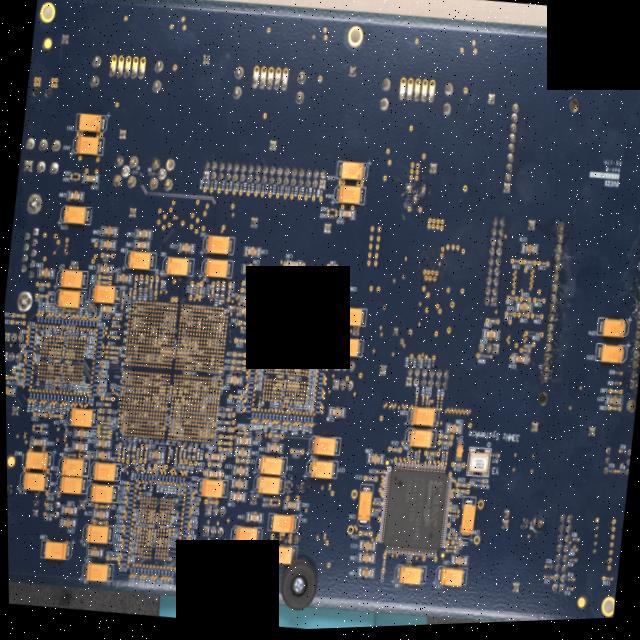-component text- -336 10K 343-: (88, 531, 100, 543), (89, 568, 100, 580), (49, 544, 60, 556), (93, 490, 105, 501), (96, 468, 108, 479), (63, 481, 75, 492), (26, 477, 38, 488), (73, 414, 85, 425)
-component text- -336 16K 412-: (342, 191, 354, 204), (96, 289, 108, 302), (276, 520, 288, 532), (237, 532, 249, 544), (204, 485, 215, 497), (316, 443, 328, 454), (415, 415, 427, 426), (63, 274, 74, 286), (280, 303, 291, 314), (209, 265, 220, 276), (211, 241, 222, 252), (80, 141, 91, 152)
-component text- -336 16k 412-: (340, 344, 351, 356), (343, 314, 354, 326)
-component text- -R- 337 6K 146-: (357, 502, 368, 522), (61, 461, 76, 475), (83, 117, 99, 130), (270, 551, 284, 565), (193, 572, 207, 586), (58, 293, 73, 306), (233, 554, 247, 567), (30, 455, 44, 468), (258, 481, 272, 494), (605, 353, 619, 366), (608, 327, 622, 340), (346, 167, 361, 179), (461, 517, 470, 536), (260, 462, 274, 474), (167, 262, 181, 274), (129, 256, 143, 268), (399, 573, 412, 585), (64, 210, 78, 221), (441, 575, 454, 586), (312, 467, 325, 478), (410, 436, 423, 447)
-component text- -R- 337 6k 146-: (279, 281, 294, 293)
-component text- -SG8002CA 33-0000 -MAPCCS-: (471, 462, 483, 473)
-component text- -XILINX System ACETM XCCACE-TQ144I F0416T155 JAPAN-: (396, 478, 441, 548)
-component text- 51R: (137, 284, 141, 290), (103, 410, 107, 414), (223, 429, 227, 433), (214, 292, 218, 296), (219, 292, 223, 296), (125, 451, 128, 456), (102, 418, 105, 422), (130, 452, 133, 456), (186, 453, 189, 457), (223, 415, 226, 419), (191, 454, 193, 458), (144, 285, 146, 289)
-electrolytic capacitor- C15: (252, 456, 287, 479)
-electrolytic capacitor- C16: (270, 296, 304, 319)
-electrolytic capacitor- C19: (250, 475, 284, 498)
-electrolytic capacitor- C199: (391, 566, 425, 590)
-electrolytic capacitor- C200: (456, 499, 475, 543)
-electrolytic capacitor- C201: (52, 288, 86, 311)
-electrolytic capacitor- C203: (353, 486, 372, 530)
-electrolytic capacitor- C204: (402, 429, 436, 452)
-electrolytic capacitor- C205: (404, 408, 439, 431)
-electrolytic capacitor- C237: (303, 460, 337, 483)
-electrolytic capacitor- C239: (55, 455, 89, 478)
-electrolytic capacitor- C240: (272, 275, 307, 298)
-electrolytic capacitor- C241: (79, 522, 113, 546)
-electrolytic capacitor- C26: (160, 256, 194, 279)
-electrolytic capacitor- C27: (54, 268, 88, 291)
-electrolytic capacitor- C273: (593, 346, 627, 369)
-electrolytic capacitor- C274: (594, 320, 629, 344)
-electrolytic capacitor- C275: (58, 204, 92, 227)
-electrolytic capacitor- C288: (122, 250, 157, 273)
-electrolytic capacitor- C302: (186, 566, 219, 589)
-electrolytic capacitor- C313: (431, 567, 466, 592)
-electrolytic capacitor- C324: (306, 435, 340, 460)
-electrolytic capacitor- C335: (193, 477, 227, 501)
-electrolytic capacitor- C347: (84, 483, 118, 506)
-electrolytic capacitor- C388: (226, 548, 260, 571)
-electrolytic capacitor- C389: (37, 539, 72, 563)
-electrolytic capacitor- C40: (54, 473, 87, 496)
-electrolytic capacitor- C410: (335, 162, 369, 185)
-electrolytic capacitor- C411: (74, 112, 108, 135)
-electrolytic capacitor- C412: (19, 449, 52, 472)
-electrolytic capacitor- C413: (263, 544, 296, 569)
-electrolytic capacitor- C414: (332, 185, 366, 209)
-electrolytic capacitor- C415: (70, 135, 104, 158)
-electrolytic capacitor- C416: (16, 470, 50, 493)
-electrolytic capacitor- C417: (264, 514, 298, 536)
-electrolytic capacitor- C42: (200, 235, 235, 258)
-electrolytic capacitor- C43: (64, 407, 97, 430)
-electrolytic capacitor- C44: (199, 258, 233, 281)
-electrolytic capacitor- C47: (332, 307, 366, 330)
-electrolytic capacitor- C58: (227, 526, 261, 549)
-electrolytic capacitor- C69: (79, 561, 112, 584)
-electrolytic capacitor- C7: (453, 443, 462, 464)
-electrolytic capacitor- C80: (329, 339, 363, 362)
-electrolytic capacitor- C83: (86, 284, 121, 307)
-electrolytic capacitor- C94: (86, 460, 121, 484)
2003: (316, 389, 322, 393)
2004: (317, 384, 322, 388)
2005: (434, 403, 437, 412)
2006: (318, 365, 323, 368)
2007: (313, 407, 319, 412)
2009: (95, 355, 100, 359)
2010: (26, 349, 31, 353)
2012: (24, 373, 28, 376)
2013: (28, 330, 33, 334)
2016: (413, 401, 416, 408)
2017: (145, 568, 148, 576)
2023: (115, 385, 120, 389)
2025: (420, 402, 423, 409)
2027: (477, 357, 482, 362)
2029: (237, 429, 242, 433)
2031: (408, 457, 411, 464)
2033: (619, 454, 625, 459)
2036: (607, 474, 612, 478)
2038: (256, 414, 259, 421)
2040: (317, 370, 323, 374)
2041: (612, 385, 617, 390)
2042: (246, 402, 250, 405)
2043: (246, 393, 250, 396)
2045: (614, 376, 619, 380)
2047: (243, 410, 248, 416)
2049: (244, 406, 249, 410)
2055: (319, 355, 325, 359)
2056: (42, 316, 45, 324)
2058: (50, 317, 53, 325)
2060: (53, 316, 56, 325)
2068: (95, 350, 100, 354)
2071: (92, 379, 98, 383)
2074: (97, 332, 102, 336)
2079: (98, 327, 103, 331)
2083: (96, 337, 102, 341)
2085: (96, 346, 101, 350)
2087: (92, 370, 98, 374)
2091: (23, 382, 28, 386)
2093: (120, 554, 126, 558)
2095: (121, 544, 126, 548)
2097: (121, 539, 127, 544)
2099: (123, 524, 129, 530)
2102: (124, 520, 129, 525)
2104: (124, 510, 131, 516)
2106: (126, 501, 131, 505)
2108: (127, 492, 132, 496)
2110: (127, 482, 133, 486)
2117: (257, 336, 261, 344)
2119: (146, 475, 149, 483)
2122: (132, 474, 135, 482)
2123: (272, 338, 275, 345)
2124: (165, 571, 168, 578)
2137: (279, 338, 282, 346)
2138: (315, 398, 320, 402)
2139: (315, 393, 320, 397)
2140: (317, 374, 324, 378)
2141: (318, 379, 323, 383)
2146: (24, 368, 29, 372)
2147: (25, 363, 30, 367)
2150: (286, 338, 289, 346)
2158: (155, 570, 158, 578)
2159: (166, 416, 169, 424)
2160: (115, 389, 120, 393)
2161: (289, 339, 292, 346)
2163: (313, 412, 319, 416)
2165: (319, 360, 324, 364)
2166: (314, 403, 320, 407)
2167: (29, 326, 35, 330)
2169: (23, 377, 28, 382)
2171: (27, 344, 32, 348)
2172: (128, 567, 131, 575)
2174: (119, 376, 125, 381)
2176: (169, 572, 172, 579)
2177: (300, 340, 303, 347)
2180: (265, 336, 268, 344)
2183: (303, 340, 306, 347)
2186: (310, 341, 313, 348)
2188: (261, 336, 264, 344)
2191: (268, 337, 271, 344)
2195: (282, 338, 285, 346)
2197: (293, 339, 296, 347)
2198: (276, 338, 279, 345)
2199: (296, 339, 299, 347)
2200: (132, 171, 137, 175)
2202: (307, 341, 310, 348)
2204: (314, 341, 317, 348)
2206: (317, 341, 320, 349)
2208: (309, 419, 312, 425)
2210: (305, 419, 309, 425)
2211: (149, 172, 154, 176)
2213: (298, 418, 302, 425)
2215: (288, 417, 291, 424)
2217: (284, 416, 288, 423)
2219: (277, 416, 281, 423)
2220: (319, 192, 322, 200)
2221: (267, 415, 270, 422)
2222: (218, 286, 225, 301), (528, 524, 533, 529)
2228: (302, 418, 305, 425)
2232: (220, 427, 230, 435)
2234: (189, 448, 195, 463), (219, 413, 230, 421), (184, 448, 190, 462), (124, 376, 130, 382), (80, 319, 84, 327), (64, 309, 72, 313), (120, 558, 126, 563), (91, 384, 98, 388), (210, 377, 217, 381), (291, 417, 295, 424), (142, 568, 145, 577), (177, 477, 180, 486), (143, 474, 146, 483), (70, 318, 73, 327), (448, 539, 453, 544), (178, 563, 183, 568), (179, 549, 184, 554), (182, 521, 187, 526), (139, 492, 144, 497), (248, 373, 253, 378), (178, 554, 184, 558), (179, 540, 185, 544), (183, 507, 189, 511), (185, 488, 191, 492), (158, 570, 161, 578), (152, 570, 155, 578), (148, 569, 151, 577), (138, 568, 141, 576), (135, 568, 138, 576), (131, 567, 134, 575), (180, 478, 183, 486), (174, 478, 177, 486), (170, 477, 173, 485), (163, 476, 166, 484), (160, 476, 163, 484), (156, 476, 159, 484), (153, 476, 156, 484), (150, 475, 153, 483), (139, 474, 142, 482), (136, 474, 139, 482), (124, 389, 130, 393), (31, 392, 34, 400), (35, 393, 38, 401), (38, 393, 41, 401), (42, 393, 45, 401), (45, 393, 48, 401), (48, 394, 51, 402), (52, 394, 55, 402), (58, 395, 61, 403), (62, 395, 65, 403), (65, 395, 68, 403), (88, 320, 91, 328), (56, 317, 59, 325), (67, 318, 70, 326), (77, 319, 80, 327), (211, 381, 217, 385), (270, 416, 274, 422), (260, 414, 263, 422), (247, 378, 253, 382), (248, 364, 254, 368), (249, 359, 255, 363), (249, 354, 255, 358), (251, 344, 257, 348), (162, 571, 165, 578), (167, 477, 170, 484), (94, 321, 97, 328), (60, 318, 63, 325), (63, 318, 66, 325), (74, 319, 77, 326), (84, 340, 87, 347), (179, 429, 182, 436), (177, 425, 180, 432), (151, 396, 154, 403), (281, 416, 284, 423), (274, 416, 277, 423), (263, 415, 266, 422), (253, 414, 256, 421), (249, 414, 252, 421), (150, 328, 153, 335), (181, 535, 186, 539), (181, 530, 186, 534), (181, 525, 186, 529), (184, 502, 189, 506), (185, 492, 190, 496), (25, 359, 30, 363), (27, 340, 32, 344), (27, 335, 32, 339), (92, 389, 97, 393), (92, 374, 97, 378), (94, 365, 99, 369), (96, 341, 101, 345), (169, 428, 174, 432), (169, 420, 174, 424), (200, 403, 205, 407), (206, 400, 211, 404), (207, 396, 212, 400), (246, 387, 251, 391), (247, 383, 252, 387), (248, 368, 253, 372), (251, 349, 256, 353), (180, 315, 185, 319), (169, 314, 174, 318), (295, 418, 298, 424), (168, 318, 174, 321), (26, 354, 31, 357), (91, 394, 96, 397), (94, 360, 99, 363), (169, 425, 174, 428), (468, 482, 472, 485), (118, 392, 122, 395), (201, 400, 205, 403), (246, 397, 250, 400), (180, 319, 184, 322), (165, 330, 169, 333), (166, 326, 170, 328)
2249: (60, 421, 68, 430), (224, 539, 231, 549), (51, 282, 58, 292), (466, 539, 473, 548), (249, 470, 256, 479), (300, 474, 307, 483), (303, 451, 310, 460), (76, 537, 83, 546), (50, 487, 57, 496), (49, 448, 56, 457), (83, 298, 90, 307), (55, 219, 62, 228), (104, 112, 111, 121), (269, 289, 276, 298), (398, 444, 405, 453), (401, 422, 408, 431), (623, 345, 630, 354), (625, 320, 632, 329), (195, 273, 202, 282), (197, 249, 204, 258), (260, 558, 266, 568), (388, 581, 395, 589), (67, 539, 74, 547), (13, 484, 20, 492), (47, 296, 55, 303), (67, 150, 74, 158), (365, 162, 372, 170), (223, 562, 229, 571), (190, 482, 196, 491), (76, 575, 82, 584), (86, 477, 92, 486), (120, 264, 126, 273), (329, 201, 335, 210), (327, 353, 333, 362), (267, 311, 273, 320), (329, 322, 335, 331), (157, 271, 163, 280), (364, 527, 371, 534), (295, 514, 302, 521), (247, 490, 254, 497), (183, 581, 189, 589), (81, 498, 87, 505), (53, 471, 58, 479), (430, 583, 435, 589), (454, 439, 458, 444)
2283: (599, 177, 618, 185)
2301: (604, 170, 620, 178)
2402: (602, 162, 621, 172)
2644: (115, 438, 117, 442)
2655: (141, 439, 146, 445)
2671: (147, 440, 151, 444)
2680: (165, 408, 168, 412)
2682: (152, 441, 157, 446)
2690: (158, 441, 163, 447)
2693: (164, 441, 169, 446)
2700: (89, 520, 91, 524)
2701: (57, 307, 62, 313)
2703: (604, 185, 617, 192)
2706: (170, 442, 175, 447)
2714: (175, 442, 180, 448)
2718: (181, 443, 185, 447)
2722: (187, 444, 191, 448)
2723: (153, 469, 158, 475)
2724: (192, 444, 197, 449)
2728: (120, 438, 123, 443), (255, 408, 258, 411)
2732: (198, 444, 203, 450)
2734: (204, 446, 208, 450)
2735: (500, 437, 518, 447)
2756: (125, 437, 128, 444)
2766: (284, 411, 288, 413)
2769: (131, 438, 134, 444)
2784: (137, 439, 140, 445), (139, 464, 143, 468)
2791: (114, 433, 116, 437)
2793: (33, 381, 39, 387), (166, 557, 171, 563), (38, 330, 43, 335), (301, 406, 305, 412), (129, 555, 133, 559), (307, 356, 311, 360)
2808: (119, 354, 124, 359)
2810: (120, 345, 125, 352)
2817: (120, 338, 126, 344)
2819: (121, 330, 126, 336)
2821: (123, 323, 128, 329)
2822: (123, 315, 128, 321)
2824: (124, 309, 128, 313)
2843: (293, 356, 297, 361), (455, 553, 457, 557), (114, 425, 116, 429)
2844: (284, 350, 289, 355), (136, 466, 140, 472), (289, 351, 293, 355)
2845: (131, 517, 138, 523), (273, 349, 278, 357), (50, 329, 55, 337)
2851: (258, 251, 267, 257)
2856: (72, 331, 77, 339), (291, 406, 295, 415)
2862: (267, 401, 272, 412)
2863: (209, 555, 218, 562)
2867: (167, 544, 174, 550), (129, 544, 135, 549)
2869: (57, 381, 62, 391)
2875: (62, 431, 70, 436)
2878: (131, 509, 139, 515), (293, 406, 298, 414)
2879: (46, 380, 51, 390)
2883: (219, 388, 222, 397)
2887: (324, 419, 334, 425)
2889: (69, 330, 73, 338)
2890: (271, 402, 275, 414)
2897: (191, 285, 196, 297)
2899: (156, 446, 165, 453)
2900: (168, 539, 175, 545), (285, 467, 292, 473), (63, 331, 67, 339)
2906: (50, 381, 55, 391)
2911: (265, 297, 272, 304)
2912: (125, 232, 134, 238)
2922: (65, 384, 71, 392)
2923: (42, 380, 48, 391)
2925: (277, 402, 282, 414)
2933: (149, 541, 154, 549), (274, 405, 278, 413), (66, 330, 70, 338)
2934: (207, 448, 215, 453)
2942: (160, 282, 165, 292)
2944: (224, 352, 231, 359), (255, 495, 262, 501)
2945: (225, 503, 234, 509)
2947: (517, 321, 526, 329)
2948: (502, 319, 511, 327)
2949: (531, 322, 541, 329)
2950: (504, 303, 513, 309)
2951: (532, 306, 541, 312)
2952: (536, 269, 545, 276)
2953: (510, 267, 519, 274)
2954: (392, 585, 401, 592)
2956: (167, 398, 170, 405)
2957: (470, 534, 478, 539)
2958: (45, 291, 54, 297)
2959: (220, 385, 229, 393)
2960: (346, 515, 355, 523)
2961: (402, 449, 410, 454)
2962: (397, 412, 407, 420)
2963: (347, 557, 356, 565)
2964: (440, 562, 449, 569)
2965: (362, 450, 371, 457)
2966: (453, 422, 462, 428)
2967: (102, 258, 108, 263)
2968: (506, 367, 516, 374)
2969: (347, 545, 357, 553)
2970: (505, 309, 514, 315)
2971: (194, 467, 203, 475)
2972: (348, 536, 357, 543)
2973: (353, 476, 362, 483)
2974: (389, 443, 398, 449)
2975: (439, 448, 447, 453)
2976: (452, 469, 461, 476)
2977: (455, 480, 464, 486)
2978: (37, 286, 44, 293), (459, 545, 467, 551), (454, 548, 461, 554)
2979: (378, 575, 383, 585)
2981: (403, 558, 408, 569)
2983: (168, 244, 177, 251)
2984: (448, 507, 457, 514)
2985: (601, 585, 609, 590)
2986: (439, 454, 445, 465)
2987: (411, 454, 417, 464)
2988: (367, 471, 376, 477)
2989: (524, 347, 531, 354), (184, 287, 189, 295)
2990: (368, 514, 377, 521)
2991: (426, 390, 431, 401)
2992: (422, 390, 427, 401)
2993: (519, 296, 528, 302)
2995: (101, 315, 110, 321)
2996: (371, 500, 380, 506)
2997: (336, 469, 345, 476)
2998: (530, 339, 539, 346)
2999: (48, 466, 57, 472)
3000: (51, 419, 58, 427)
3001: (266, 276, 275, 283)
3002: (80, 543, 88, 548)
3003: (229, 294, 238, 300)
3005: (235, 515, 244, 522)
3006: (65, 528, 74, 535)
3007: (249, 452, 258, 458)
3008: (112, 268, 121, 274)
3009: (91, 229, 100, 235)
3010: (312, 309, 321, 317)
3011: (211, 543, 218, 551), (108, 504, 115, 512), (46, 328, 51, 336), (89, 429, 95, 435), (44, 328, 48, 336), (298, 325, 304, 330)
3012: (4, 380, 12, 385)
3013: (4, 318, 9, 325)
3014: (109, 359, 118, 365)
3016: (234, 345, 243, 351)
3018: (222, 464, 231, 472)
3021: (296, 406, 301, 415), (128, 548, 135, 554), (153, 270, 158, 278)
3026: (85, 439, 93, 444)
3027: (57, 263, 64, 270)
3029: (584, 358, 593, 366)
3030: (587, 334, 596, 342)
3031: (59, 224, 68, 231)
3032: (478, 342, 487, 349)
3033: (595, 400, 604, 407)
3034: (518, 240, 527, 247)
3035: (82, 510, 91, 517)
3037: (57, 192, 66, 199)
3038: (596, 410, 606, 416)
3039: (598, 391, 607, 399)
3040: (482, 325, 491, 333)
3041: (523, 268, 532, 274)
3042: (347, 288, 357, 295)
3043: (346, 573, 355, 579)
3045: (119, 248, 127, 254)
3046: (62, 448, 70, 453)
3048: (327, 308, 335, 313)
3049: (251, 261, 260, 267)
3050: (64, 501, 73, 507)
3051: (252, 315, 261, 321)
3052: (107, 456, 116, 464)
3053: (35, 263, 43, 268)
3056: (222, 476, 231, 482)
3057: (213, 436, 218, 442)
3058: (130, 297, 135, 305), (90, 275, 96, 280)
3059: (250, 442, 259, 448)
3060: (87, 264, 96, 272)
3061: (187, 585, 196, 591)
3062: (82, 558, 90, 563)
3063: (256, 448, 265, 454)
3064: (89, 237, 98, 244)
3065: (225, 400, 233, 405)
3066: (189, 372, 195, 378)
3067: (243, 278, 252, 285)
3069: (247, 460, 254, 467), (61, 341, 67, 349), (104, 393, 110, 398)
3072: (432, 587, 442, 593)
3073: (222, 359, 231, 367)
3075: (155, 461, 163, 467)
3076: (208, 440, 217, 446)
3077: (223, 453, 231, 459)
3078: (424, 458, 433, 464)
3079: (139, 523, 146, 530), (279, 394, 284, 402)
3080: (290, 455, 299, 462)
3081: (122, 293, 127, 306)
3082: (270, 439, 278, 444)
3083: (308, 456, 317, 463)
3084: (29, 416, 38, 422)
3087: (106, 342, 114, 347)
3088: (83, 450, 92, 457)
3089: (44, 357, 51, 363), (280, 349, 284, 357)
3090: (116, 347, 121, 358)
3091: (4, 311, 11, 318)
3092: (146, 445, 154, 450)
3093: (229, 283, 234, 294)
3094: (194, 462, 204, 469)
3095: (190, 477, 198, 482)
3096: (283, 355, 288, 365)
3097: (221, 367, 229, 372)
3099: (88, 434, 96, 439)
3100: (327, 277, 334, 285), (210, 549, 217, 556)
3101: (163, 525, 171, 530)
3102: (228, 319, 237, 326)
3103: (173, 340, 176, 349)
3104: (88, 279, 97, 286)
3108: (84, 502, 93, 509)
3109: (275, 317, 284, 324)
3110: (107, 331, 116, 337)
3111: (103, 551, 111, 557), (294, 378, 300, 384)
3112: (453, 497, 461, 502)
3113: (33, 297, 42, 303)
3114: (112, 445, 117, 455)
3115: (199, 289, 205, 300)
3116: (252, 289, 261, 296)
3120: (61, 383, 66, 391), (132, 513, 138, 518)
3124: (205, 497, 213, 502)
3127: (174, 464, 180, 472), (107, 426, 114, 432), (147, 293, 152, 301), (217, 408, 223, 413)
3128: (179, 463, 184, 474)
3129: (121, 439, 126, 449)
3130: (204, 285, 210, 297)
3135: (169, 521, 175, 526)
3143: (237, 569, 245, 574)
3144: (37, 534, 46, 541)
3145: (108, 422, 115, 427), (244, 433, 250, 438)
3146: (243, 586, 252, 593), (171, 461, 176, 472)
3147: (284, 255, 293, 262)
3148: (123, 242, 132, 248)
3149: (57, 453, 65, 458)
3150: (110, 321, 118, 326)
3151: (239, 331, 246, 336)
3152: (167, 450, 171, 461)
3154: (48, 482, 55, 488)
3155: (114, 314, 122, 319)
3156: (69, 260, 78, 267)
3158: (326, 177, 335, 184)
3159: (65, 125, 74, 133)
3160: (12, 450, 21, 457)
3161: (264, 563, 273, 571)
3162: (323, 195, 332, 203)
3163: (62, 145, 71, 151)
3164: (17, 489, 26, 495)
3165: (297, 519, 306, 527)
3166: (335, 221, 344, 228)
3167: (89, 184, 98, 191)
3168: (40, 422, 48, 429), (198, 233, 205, 240)
3169: (45, 441, 54, 448)
3170: (299, 504, 308, 510)
3171: (318, 216, 327, 222)
3172: (319, 209, 328, 216)
3173: (61, 177, 70, 183)
3174: (62, 171, 71, 177)
3175: (39, 429, 48, 437)
3176: (261, 498, 269, 505)
3177: (260, 503, 269, 511)
3178: (215, 421, 223, 427), (132, 461, 138, 469), (57, 419, 64, 425), (126, 301, 131, 309)
3179: (197, 450, 202, 462)
3180: (93, 401, 102, 408)
3181: (222, 309, 231, 316)
3182: (201, 279, 207, 284)
3183: (329, 263, 335, 268)
3185: (334, 328, 341, 334)
3187: (170, 516, 176, 521)
3197: (240, 546, 246, 551)
3198: (172, 528, 178, 534)
3201: (130, 534, 136, 539)
3205: (193, 340, 197, 344)
3209: (81, 580, 87, 585)
3210: (287, 406, 292, 412), (457, 439, 462, 444)
3211: (69, 383, 73, 391)
3213: (277, 349, 282, 358)
3215: (54, 329, 59, 337)
3220: (169, 510, 177, 517)
3221: (437, 433, 442, 438)
3222: (324, 346, 331, 353)
3224: (158, 253, 166, 259)
3225: (120, 286, 126, 292)
3233: (133, 523, 139, 528)
3234: (128, 538, 135, 544)
3235: (172, 534, 178, 539)
3237: (118, 468, 125, 474)
3240: (220, 371, 224, 378)
3241: (299, 351, 304, 359)
3326: (115, 418, 117, 422)
3438: (115, 409, 118, 414)
3488: (116, 402, 119, 407)
3559: (116, 395, 119, 400)
3765: (139, 471, 143, 475), (118, 380, 121, 384)
3766: (258, 402, 263, 409), (264, 351, 269, 357), (81, 334, 86, 340), (455, 540, 460, 545), (134, 496, 139, 501), (64, 406, 69, 411), (172, 500, 176, 504)
3767: (617, 468, 624, 475)
3770: (44, 496, 53, 502)
3771: (43, 506, 51, 511)
3772: (42, 516, 51, 522)
3775: (410, 360, 415, 371)
3776: (403, 359, 408, 371)
3777: (417, 361, 422, 372)
3778: (447, 520, 454, 527), (183, 466, 189, 474), (108, 417, 115, 423), (109, 410, 116, 416), (79, 377, 84, 384)
3779: (425, 361, 430, 372)
3783: (188, 465, 193, 475)
3784: (127, 438, 131, 448)
3785: (131, 438, 136, 448)
3789: (141, 294, 147, 302), (136, 294, 142, 302), (213, 300, 218, 308), (448, 531, 454, 537)
3812: (198, 179, 203, 191)
3813: (204, 180, 209, 192)
3814: (212, 181, 217, 193)
3815: (220, 181, 225, 193)
3816: (227, 182, 232, 194)
3817: (234, 183, 239, 195)
3818: (241, 183, 246, 195)
3819: (249, 184, 254, 196)
3820: (307, 188, 312, 201)
3821: (299, 189, 304, 200)
3822: (82, 348, 86, 356)
3823: (292, 188, 297, 200)
3824: (285, 187, 290, 199)
3825: (278, 186, 283, 198)
3826: (271, 186, 276, 198)
3827: (263, 185, 268, 197)
3828: (256, 184, 261, 197)
3833: (562, 594, 569, 600), (60, 407, 65, 415)
3835: (88, 396, 93, 407)
3837: (81, 384, 86, 394)
3839: (78, 384, 83, 394)
3844: (490, 461, 497, 467), (44, 401, 49, 409), (39, 405, 44, 413), (32, 403, 37, 411)
3846: (53, 403, 58, 413)
3854: (84, 384, 90, 394)
3855: (564, 576, 571, 582), (50, 406, 55, 414), (45, 407, 50, 415), (56, 408, 61, 415)
3857: (75, 383, 80, 393)
3859: (71, 383, 77, 393)
3866: (36, 404, 41, 413), (29, 405, 34, 413), (565, 566, 571, 571)
3872: (25, 402, 30, 413)
3874: (36, 302, 41, 313)
3876: (40, 302, 45, 313)
3877: (59, 313, 64, 319), (468, 485, 473, 490)
3878: (566, 555, 573, 561), (66, 313, 71, 320)
3880: (46, 303, 51, 313)
3888: (78, 308, 83, 318)
3889: (568, 536, 575, 542), (144, 492, 151, 498)
3891: (83, 306, 88, 316)
3893: (92, 307, 97, 318)
3900: (541, 582, 549, 588), (184, 483, 191, 489), (191, 507, 197, 513), (190, 526, 196, 531)
3904: (191, 497, 200, 504)
3908: (188, 517, 196, 522)
3911: (544, 562, 551, 569), (188, 490, 195, 496), (187, 550, 193, 555), (187, 531, 193, 536)
3915: (183, 544, 192, 551)
3918: (183, 560, 190, 565)
3921: (481, 487, 488, 493), (188, 502, 195, 508), (190, 521, 196, 527), (187, 540, 193, 545), (188, 535, 194, 540)
3925: (190, 512, 198, 517)
3932: (481, 481, 488, 488), (185, 564, 191, 569), (186, 555, 192, 560), (127, 559, 133, 564)
3938: (173, 573, 182, 580)
3940: (117, 567, 126, 574)
3945: (111, 547, 119, 552)
3947: (112, 534, 120, 539)
3949: (112, 529, 120, 534)
3951: (111, 514, 120, 520)
3953: (115, 505, 124, 511)
3954: (254, 378, 261, 384), (438, 392, 443, 400), (255, 383, 261, 388)
3956: (116, 496, 124, 501)
3958: (117, 487, 125, 492)
3963: (306, 388, 314, 393)
3964: (307, 383, 315, 388)
3965: (154, 486, 159, 494), (435, 392, 440, 400), (102, 360, 108, 366), (33, 353, 39, 359)
3966: (308, 363, 317, 369)
3967: (304, 407, 312, 412)
3969: (84, 354, 93, 360)
3970: (18, 348, 27, 356)
3972: (13, 372, 21, 377)
3973: (17, 328, 26, 336)
3976: (413, 389, 418, 398), (156, 582, 161, 590), (146, 581, 150, 589), (129, 580, 133, 588), (164, 424, 169, 428)
3977: (144, 575, 148, 587)
3983: (109, 383, 115, 388)
3986: (419, 391, 424, 399)
3989: (475, 362, 484, 369)
3991: (235, 425, 243, 430)
3993: (404, 454, 410, 462)
3997: (618, 448, 625, 455), (278, 427, 283, 436), (292, 429, 297, 437), (289, 429, 294, 437), (272, 427, 277, 435), (268, 427, 273, 435)
4001: (606, 467, 613, 474), (247, 425, 252, 433), (262, 426, 266, 435), (254, 388, 260, 393)
4003: (254, 421, 259, 433)
4005: (308, 368, 316, 374)
4006: (605, 384, 612, 392), (257, 364, 263, 370), (257, 359, 263, 365), (256, 374, 262, 379)
4007: (234, 401, 242, 406)
4008: (235, 391, 243, 396)
4010: (607, 373, 614, 380), (240, 395, 247, 401), (256, 369, 262, 374), (258, 351, 264, 356)
4012: (232, 410, 241, 416)
4014: (234, 405, 243, 411)
4018: (259, 346, 265, 352), (258, 355, 264, 360)
4021: (309, 353, 318, 359)
4022: (43, 300, 48, 310)
4024: (50, 304, 55, 314)
4026: (53, 307, 58, 317)
4027: (87, 313, 92, 322), (74, 309, 79, 317), (78, 331, 83, 339)
4032: (96, 315, 101, 323), (101, 365, 107, 370), (33, 358, 39, 363)
4034: (85, 349, 93, 355)
4037: (97, 380, 106, 385)
4038: (99, 388, 106, 394), (87, 340, 94, 346), (101, 375, 107, 380)
4040: (86, 330, 95, 337)
4045: (96, 323, 105, 329)
4046: (140, 485, 145, 491), (133, 484, 138, 490)
4047: (97, 392, 103, 397), (99, 384, 105, 389)
4049: (86, 336, 93, 341)
4051: (85, 344, 94, 351)
4053: (98, 370, 106, 375)
4057: (12, 381, 21, 387)
4059: (109, 552, 118, 558)
4061: (111, 543, 119, 548)
4063: (112, 538, 119, 543)
4065: (112, 524, 121, 530)
4068: (114, 519, 122, 524)
4070: (114, 510, 122, 515)
4072: (115, 500, 124, 506)
4074: (118, 491, 126, 496)
4076: (117, 481, 125, 486)
4077: (157, 485, 162, 494), (168, 487, 173, 495), (160, 582, 164, 590)
4083: (254, 335, 260, 343), (164, 487, 169, 495), (175, 487, 179, 495)
4085: (144, 465, 150, 475)
4088: (128, 471, 133, 482)
4089: (178, 488, 183, 496), (171, 487, 176, 495), (161, 486, 166, 494), (147, 485, 152, 493), (272, 327, 276, 335)
4090: (163, 581, 168, 591)
4103: (278, 329, 284, 337)
4104: (304, 397, 313, 403)
4105: (306, 392, 314, 398)
4106: (307, 372, 316, 379)
4107: (307, 378, 315, 384)
4111: (33, 339, 41, 346), (35, 335, 41, 341)
4112: (11, 365, 19, 370)
4113: (15, 361, 23, 368)
4116: (139, 581, 144, 589), (286, 328, 291, 336), (136, 581, 140, 589)
4123: (149, 582, 154, 590)
4124: (153, 578, 158, 588)
4125: (163, 414, 166, 423)
4126: (109, 391, 115, 396)
4127: (109, 386, 115, 391)
4128: (290, 329, 295, 337)
4130: (304, 411, 312, 416)
4132: (309, 358, 318, 364)
4133: (305, 402, 313, 407)
4134: (26, 321, 34, 326)
4136: (15, 377, 24, 383)
4138: (17, 342, 26, 349)
4140: (125, 577, 130, 588)
4142: (112, 375, 118, 380)
4144: (167, 580, 172, 590)
4145: (299, 329, 305, 337), (132, 577, 137, 585)
4148: (265, 322, 270, 334)
4152: (303, 329, 309, 337)
4156: (261, 325, 266, 334)
4159: (268, 326, 273, 334)
4161: (275, 327, 280, 335)
4163: (282, 328, 288, 336)
4165: (293, 329, 299, 337)
4167: (296, 330, 301, 337)
4168: (135, 166, 140, 172)
4170: (306, 329, 312, 337)
4172: (314, 329, 319, 337)
4174: (310, 329, 316, 338), (318, 330, 323, 338)
4176: (307, 428, 312, 436)
4178: (303, 426, 308, 435)
4179: (147, 169, 151, 173)
4181: (297, 424, 302, 433)
4183: (286, 425, 291, 433)
4185: (282, 426, 287, 435)
4187: (275, 423, 280, 432)
4188: (315, 191, 320, 200)
4189: (266, 422, 271, 430)
4190: (217, 301, 222, 307), (258, 427, 263, 432), (216, 414, 221, 419), (528, 530, 532, 534)
4194: (251, 424, 255, 432)
4196: (300, 428, 305, 436)
4200: (215, 428, 221, 433)
4283: (466, 430, 499, 446)
4340: (389, 462, 392, 467), (120, 369, 122, 373)
4402: (120, 363, 122, 367)
4426: (489, 470, 498, 479)
capacitor: (58, 363, 63, 375), (60, 348, 65, 359), (221, 421, 230, 427), (137, 449, 141, 461), (177, 449, 181, 461), (198, 549, 207, 554), (285, 377, 294, 382), (199, 543, 207, 548), (145, 525, 153, 530), (95, 521, 103, 526), (96, 505, 104, 510), (102, 397, 110, 402), (51, 359, 59, 364), (62, 360, 70, 365), (220, 436, 228, 441), (223, 409, 231, 414), (286, 323, 294, 328), (282, 381, 285, 393), (151, 422, 158, 427), (181, 381, 188, 386), (446, 548, 452, 553), (452, 544, 458, 549), (33, 423, 39, 428), (140, 413, 146, 418), (142, 397, 148, 402), (141, 390, 147, 395), (153, 403, 159, 408), (183, 421, 189, 426), (192, 394, 197, 400), (201, 387, 207, 392), (156, 355, 161, 361), (146, 511, 153, 515), (141, 382, 148, 386), (160, 337, 164, 344), (176, 404, 179, 413), (174, 400, 177, 409), (295, 384, 298, 393), (210, 356, 213, 365), (120, 424, 125, 429), (118, 415, 123, 420), (160, 427, 165, 432), (159, 407, 164, 412), (120, 372, 125, 377), (208, 435, 213, 440), (202, 434, 207, 439), (196, 434, 201, 439), (197, 430, 202, 435), (183, 401, 188, 406), (181, 389, 186, 394), (194, 383, 199, 388), (206, 344, 211, 349), (192, 347, 197, 352), (192, 343, 197, 348), (121, 412, 127, 416), (130, 401, 136, 405), (128, 424, 134, 428), (142, 378, 148, 382), (153, 376, 159, 380), (54, 349, 57, 357), (51, 349, 54, 357), (61, 334, 64, 342), (58, 333, 61, 341), (209, 424, 215, 428), (180, 397, 183, 405), (193, 387, 199, 391), (286, 384, 289, 392), (284, 399, 287, 407), (277, 383, 280, 391), (293, 369, 296, 377), (286, 356, 289, 364), (273, 367, 276, 375), (196, 352, 202, 356), (181, 350, 184, 358), (179, 350, 182, 358), (176, 350, 179, 358), (165, 348, 168, 356), (155, 360, 161, 364), (144, 359, 150, 363), (123, 357, 126, 365), (134, 346, 137, 354), (137, 335, 143, 339), (157, 340, 160, 348), (163, 337, 166, 345), (154, 396, 157, 403), (161, 388, 164, 395), (158, 388, 161, 395), (172, 389, 175, 396), (48, 349, 51, 356), (66, 367, 69, 374), (178, 390, 181, 397), (292, 385, 295, 392), (289, 385, 292, 392), (281, 399, 284, 406), (289, 357, 292, 364), (197, 321, 200, 328), (184, 351, 187, 358), (183, 343, 186, 350), (180, 339, 183, 346), (167, 350, 170, 357), (162, 349, 165, 356), (159, 349, 162, 356), (446, 552, 451, 556), (156, 543, 161, 547), (155, 540, 160, 544), (120, 427, 125, 431), (153, 384, 158, 388), (202, 431, 207, 435), (199, 407, 204, 411), (195, 364, 200, 368), (184, 358, 189, 362), (206, 341, 211, 345), (216, 330, 221, 334), (217, 326, 222, 330), (218, 314, 223, 318), (186, 343, 191, 347), (185, 323, 190, 327), (145, 355, 150, 359), (152, 340, 157, 344), (130, 326, 135, 330), (131, 323, 136, 327), (131, 319, 136, 323), (135, 307, 140, 311), (163, 318, 168, 322), (131, 311, 137, 314), (183, 367, 188, 370), (181, 312, 186, 315), (135, 530, 139, 533), (207, 419, 211, 422), (152, 345, 156, 347)
capacitor C100: (147, 520, 151, 523)
capacitor C106: (241, 248, 261, 260)
capacitor C110: (70, 351, 73, 359)
capacitor C116: (271, 387, 274, 395)
capacitor C117: (192, 554, 211, 567)
capacitor C120: (144, 539, 150, 543)
capacitor C122: (56, 378, 59, 384)
capacitor C125: (220, 381, 223, 388)
capacitor C128: (71, 428, 90, 441)
capacitor C131: (49, 365, 52, 372)
capacitor C139: (326, 408, 345, 421)
capacitor C140: (68, 351, 71, 358)
capacitor C141: (275, 384, 278, 391)
capacitor C148: (195, 288, 198, 296)
capacitor C15: (145, 450, 164, 462)
capacitor C156: (53, 377, 56, 384)
capacitor C161: (133, 229, 152, 241)
capacitor C171: (46, 364, 49, 372)
capacitor C180: (151, 530, 155, 541), (65, 350, 68, 358)
capacitor C181: (204, 452, 223, 465)
capacitor C189: (159, 284, 162, 291)
capacitor C190: (234, 354, 242, 359)
capacitor C191: (226, 493, 245, 505)
capacitor C193: (519, 317, 525, 322)
capacitor C194: (506, 315, 512, 320)
capacitor C195: (533, 318, 539, 323)
capacitor C196: (508, 300, 514, 305)
capacitor C197: (535, 302, 541, 307)
capacitor C198: (539, 265, 545, 270)
capacitor C199: (513, 263, 519, 268)
capacitor C200: (167, 386, 171, 398)
capacitor C203: (223, 376, 243, 389)
capacitor C207: (355, 554, 374, 567)
capacitor C208: (448, 558, 467, 570)
capacitor C209: (364, 456, 384, 468)
capacitor C21: (443, 426, 462, 438)
capacitor C210: (103, 253, 111, 259)
capacitor C211: (509, 356, 528, 369)
capacitor C212: (356, 542, 375, 554)
capacitor C213: (514, 305, 532, 317)
capacitor C214: (203, 470, 221, 481)
capacitor C215: (359, 532, 368, 540)
capacitor C216: (365, 478, 374, 485)
capacitor C217: (389, 450, 398, 456)
capacitor C218: (440, 444, 448, 449)
capacitor C219: (452, 465, 461, 472)
capacitor C22: (458, 486, 466, 491)
capacitor C220: (38, 282, 46, 287)
capacitor C221: (380, 560, 384, 571)
capacitor C223: (407, 561, 410, 568)
capacitor C225: (176, 243, 195, 255)
capacitor C226: (449, 513, 455, 517)
capacitor C227: (603, 581, 608, 585)
capacitor C228: (443, 458, 446, 465)
capacitor C229: (415, 456, 419, 464)
capacitor C23: (376, 473, 382, 478)
capacitor C230: (188, 286, 193, 298), (521, 352, 527, 357)
capacitor C231: (372, 511, 377, 516)
capacitor C232: (426, 403, 429, 411)
capacitor C233: (423, 403, 426, 410)
capacitor C234: (521, 301, 526, 306)
capacitor C236: (97, 304, 116, 317)
capacitor C237: (373, 504, 379, 508)
capacitor C239: (534, 335, 540, 341)
capacitor C240: (50, 414, 58, 419)
capacitor C243: (237, 295, 256, 308)
capacitor C244: (4, 385, 16, 397)
capacitor C245: (243, 513, 262, 526)
capacitor C246: (57, 517, 76, 530)
capacitor C247: (232, 448, 250, 461)
capacitor C248: (113, 273, 132, 286)
capacitor C249: (99, 226, 118, 239)
capacitor C25: (301, 314, 320, 327)
capacitor C250: (100, 430, 108, 435)
capacitor C251: (6, 375, 14, 380)
capacitor C252: (13, 320, 21, 325)
capacitor C254: (106, 356, 114, 361)
capacitor C256: (236, 340, 244, 345)
capacitor C258: (230, 466, 249, 478)
capacitor C260: (153, 282, 157, 294), (144, 541, 149, 546)
capacitor C27: (92, 437, 111, 450)
capacitor C277: (480, 332, 499, 345)
capacitor C278: (603, 399, 622, 412)
capacitor C279: (519, 246, 538, 259)
capacitor C28: (89, 509, 108, 522)
capacitor C281: (65, 191, 84, 203)
capacitor C282: (608, 411, 617, 416)
capacitor C283: (610, 394, 618, 399)
capacitor C284: (487, 322, 496, 328)
capacitor C285: (524, 264, 532, 269)
capacitor C286: (330, 284, 349, 296)
capacitor C287: (354, 569, 373, 581)
capacitor C29: (69, 441, 88, 454)
capacitor C291: (329, 295, 348, 308)
capacitor C292: (240, 265, 259, 278)
capacitor C293: (58, 504, 77, 517)
capacitor C294: (236, 307, 255, 320)
capacitor C295: (92, 449, 110, 462)
capacitor C296: (36, 268, 55, 280)
capacitor C3: (228, 479, 247, 492)
capacitor C300: (133, 280, 137, 292), (100, 276, 108, 281)
capacitor C301: (233, 436, 252, 449)
capacitor C302: (94, 264, 113, 276)
capacitor C304: (83, 547, 103, 560)
capacitor C305: (264, 443, 283, 456)
capacitor C306: (97, 239, 116, 252)
capacitor C307: (230, 396, 238, 401)
capacitor C308: (181, 372, 189, 377)
capacitor C309: (243, 283, 251, 289)
capacitor C310: (236, 460, 246, 467)
capacitor C315: (233, 362, 241, 367)
capacitor C317: (154, 465, 164, 471)
capacitor C318: (219, 443, 228, 448)
capacitor C319: (219, 449, 227, 454)
capacitor C32: (426, 455, 434, 460)
capacitor C322: (291, 450, 300, 458)
capacitor C323: (120, 295, 123, 307)
capacitor C324: (271, 436, 279, 441)
capacitor C327: (35, 412, 43, 418)
capacitor C329: (107, 346, 115, 352)
capacitor C33: (80, 454, 88, 459)
capacitor C330: (274, 376, 283, 381)
capacitor C331: (107, 351, 115, 356)
capacitor C332: (13, 313, 21, 318)
capacitor C333: (142, 448, 146, 461)
capacitor C334: (226, 287, 230, 300)
capacitor C335: (208, 463, 219, 470)
capacitor C337: (283, 365, 287, 377)
capacitor C338: (233, 368, 241, 373)
capacitor C34: (99, 435, 107, 440)
capacitor C340: (327, 271, 335, 277)
capacitor C341: (156, 526, 164, 531)
capacitor C342: (240, 323, 248, 328)
capacitor C343: (171, 349, 175, 359)
capacitor C344: (99, 281, 107, 286)
capacitor C349: (286, 318, 294, 323)
capacitor C35: (108, 336, 117, 341)
capacitor C350: (107, 557, 115, 562)
capacitor C351: (456, 493, 464, 498)
capacitor C352: (37, 294, 45, 299)
capacitor C353: (116, 447, 120, 459)
capacitor C354: (198, 287, 201, 299)
capacitor C356: (241, 289, 252, 296)
capacitor C362: (147, 516, 151, 519)
capacitor C367: (205, 501, 213, 506)
capacitor C370: (148, 280, 152, 292), (100, 426, 108, 431)
capacitor C371: (180, 450, 184, 462)
capacitor C373: (120, 449, 124, 460)
capacitor C377: (210, 286, 214, 298)
capacitor C380: (153, 514, 157, 526)
capacitor C390: (101, 422, 107, 426), (238, 433, 243, 437)
capacitor C391: (233, 575, 252, 588), (173, 451, 176, 459)
capacitor C392: (283, 261, 302, 273)
capacitor C394: (131, 240, 150, 253)
capacitor C395: (67, 453, 73, 458)
capacitor C396: (111, 325, 117, 328)
capacitor C399: (241, 328, 246, 332)
capacitor C4: (166, 451, 169, 458)
capacitor C401: (113, 318, 118, 321)
capacitor C41: (70, 266, 76, 269)
capacitor C419: (337, 211, 356, 223)
capacitor C42: (80, 173, 99, 185)
capacitor C421: (28, 436, 47, 448)
capacitor C422: (280, 501, 300, 514)
capacitor C423: (328, 217, 333, 221)
capacitor C424: (329, 210, 334, 214)
capacitor C425: (72, 178, 77, 182)
capacitor C427: (72, 173, 78, 177)
capacitor C428: (33, 429, 39, 434)
capacitor C429: (270, 499, 276, 504)
capacitor C43: (270, 505, 276, 509)
capacitor C430: (134, 449, 138, 461), (127, 288, 131, 300)
capacitor C432: (195, 450, 198, 462)
capacitor C434: (101, 403, 109, 408)
capacitor C44: (226, 306, 234, 312)
capacitor C46: (328, 267, 334, 271)
capacitor C5: (158, 516, 163, 521)
capacitor C6: (165, 529, 171, 533)
capacitor C62: (144, 531, 150, 535)
capacitor C71: (69, 367, 72, 374)
capacitor C73: (276, 367, 279, 375)
capacitor C75: (57, 350, 60, 357)
capacitor C8: (158, 512, 164, 517)
capacitor C80: (439, 437, 448, 443)
capacitor C91: (134, 526, 139, 530)
capacitor C92: (146, 535, 150, 538)
capacitor C93: (165, 533, 171, 537)
capacitor C98: (217, 370, 220, 377)
capacitor C99: (296, 368, 299, 377)
clock unknown: (464, 448, 490, 482)
connector USB: (396, 76, 437, 109), (249, 65, 291, 96), (108, 52, 147, 83)
ic unknown: (373, 462, 453, 565)
pins unknown: (201, 156, 327, 196), (537, 227, 567, 388), (479, 218, 507, 312), (624, 233, 640, 396), (548, 517, 573, 598), (500, 106, 520, 198), (20, 135, 62, 177), (18, 224, 39, 280), (403, 370, 449, 394), (147, 156, 176, 194), (110, 154, 139, 191), (199, 505, 226, 541), (329, 361, 356, 395), (292, 72, 309, 109), (229, 66, 246, 103), (402, 184, 427, 209), (4, 330, 23, 362), (150, 58, 166, 96), (23, 191, 45, 217), (88, 53, 103, 90), (389, 328, 413, 351), (440, 84, 454, 121), (378, 78, 392, 115), (14, 289, 33, 314), (476, 344, 499, 359), (282, 481, 304, 496), (600, 450, 610, 481), (29, 490, 39, 519), (498, 511, 509, 535), (277, 535, 298, 547), (51, 492, 60, 520), (622, 453, 629, 482), (347, 67, 357, 81), (60, 33, 70, 47), (267, 140, 277, 153), (377, 366, 386, 380), (127, 208, 137, 220), (509, 585, 518, 598), (9, 404, 18, 417), (585, 430, 594, 443), (528, 425, 537, 438), (486, 96, 495, 109), (526, 223, 535, 236), (428, 165, 437, 178), (249, 218, 258, 231), (350, 328, 360, 339), (322, 225, 331, 237), (259, 302, 268, 314), (202, 55, 211, 67), (76, 500, 85, 511), (118, 130, 127, 141), (248, 496, 256, 508), (253, 432, 261, 443), (520, 521, 527, 533), (534, 524, 541, 534), (87, 303, 94, 313), (6, 484, 11, 495)
resistor R100: (617, 474, 623, 479)
resistor R103: (46, 492, 52, 496)
resistor R104: (46, 502, 52, 507)
resistor R105: (44, 513, 51, 517)
resistor R108: (415, 361, 418, 370)
resistor R109: (408, 361, 411, 369)
resistor R11: (422, 362, 425, 370)
resistor R110: (99, 408, 110, 416), (99, 416, 110, 423), (449, 517, 455, 522)
resistor R111: (430, 363, 433, 371)
resistor R116: (123, 447, 129, 460)
resistor R117: (129, 447, 135, 460)
resistor R120: (136, 279, 142, 294), (213, 287, 219, 301), (142, 280, 148, 294), (448, 536, 453, 540)
resistor R130: (257, 398, 260, 405)
resistor R141: (203, 181, 206, 189)
resistor R142: (210, 182, 213, 190)
resistor R143: (217, 183, 220, 191)
resistor R144: (232, 185, 235, 192)
resistor R144 274: (225, 183, 228, 192)
resistor R146: (247, 186, 250, 193)
resistor R146 339: (239, 185, 242, 193)
resistor R148: (254, 186, 257, 194)
resistor R149: (304, 190, 307, 198)
resistor R149 114: (312, 191, 315, 199)
resistor R151: (297, 190, 300, 197)
resistor R152: (290, 189, 293, 197)
resistor R153: (284, 189, 287, 196)
resistor R154: (276, 188, 279, 195)
resistor R155: (268, 187, 271, 195)
resistor R156: (261, 187, 264, 195)
resistor R160: (564, 591, 569, 595)
resistor R162: (86, 397, 89, 405)
resistor R163: (79, 396, 82, 404)
resistor R166: (76, 396, 79, 404)
resistor R170: (490, 457, 496, 462)
resistor R172: (55, 394, 58, 403)
resistor R18: (83, 397, 86, 405)
resistor R180: (566, 582, 570, 585)
resistor R182: (72, 396, 75, 404)
resistor R184: (69, 396, 72, 404)
resistor R190: (567, 563, 572, 567)
resistor R196: (28, 392, 31, 400)
resistor R198: (36, 315, 39, 323)
resistor R2: (39, 316, 42, 323)
resistor R200: (569, 552, 574, 556)
resistor R202: (46, 316, 49, 324)
resistor R210: (569, 542, 576, 546)
resistor R212: (84, 320, 87, 328)
resistor R214: (91, 321, 94, 328)
resistor R220: (543, 579, 548, 583)
resistor R224: (184, 497, 189, 502)
resistor R228: (183, 516, 188, 521)
resistor R230: (545, 569, 550, 574)
resistor R233: (179, 544, 184, 549)
resistor R238: (178, 558, 183, 564)
resistor R240: (474, 487, 480, 491)
resistor R244: (183, 511, 188, 515)
resistor R250: (475, 482, 480, 487)
resistor R256: (177, 568, 182, 573)
resistor R258: (119, 563, 125, 567)
resistor R262: (121, 549, 126, 554)
resistor R264: (122, 534, 127, 539)
resistor R266: (123, 529, 129, 534)
resistor R268: (125, 515, 130, 520)
resistor R27: (125, 506, 130, 511)
resistor R270: (438, 403, 441, 410)
resistor R272: (127, 496, 132, 501)
resistor R274: (128, 487, 133, 492)
